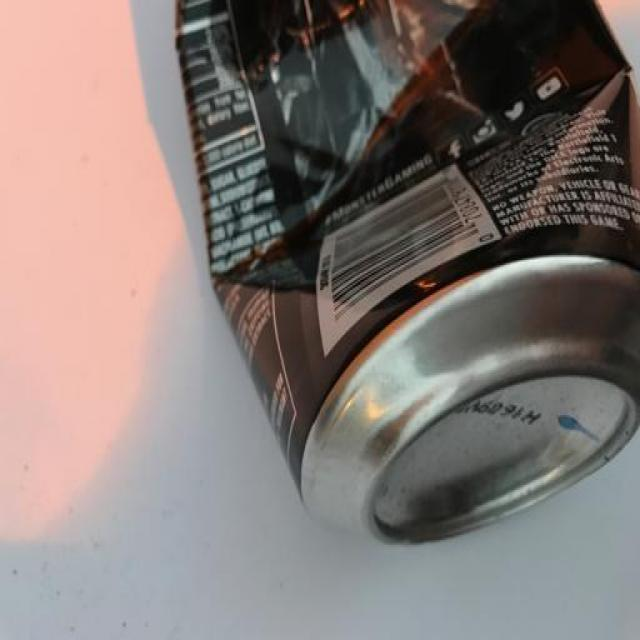metel: (178, 1, 640, 514)
